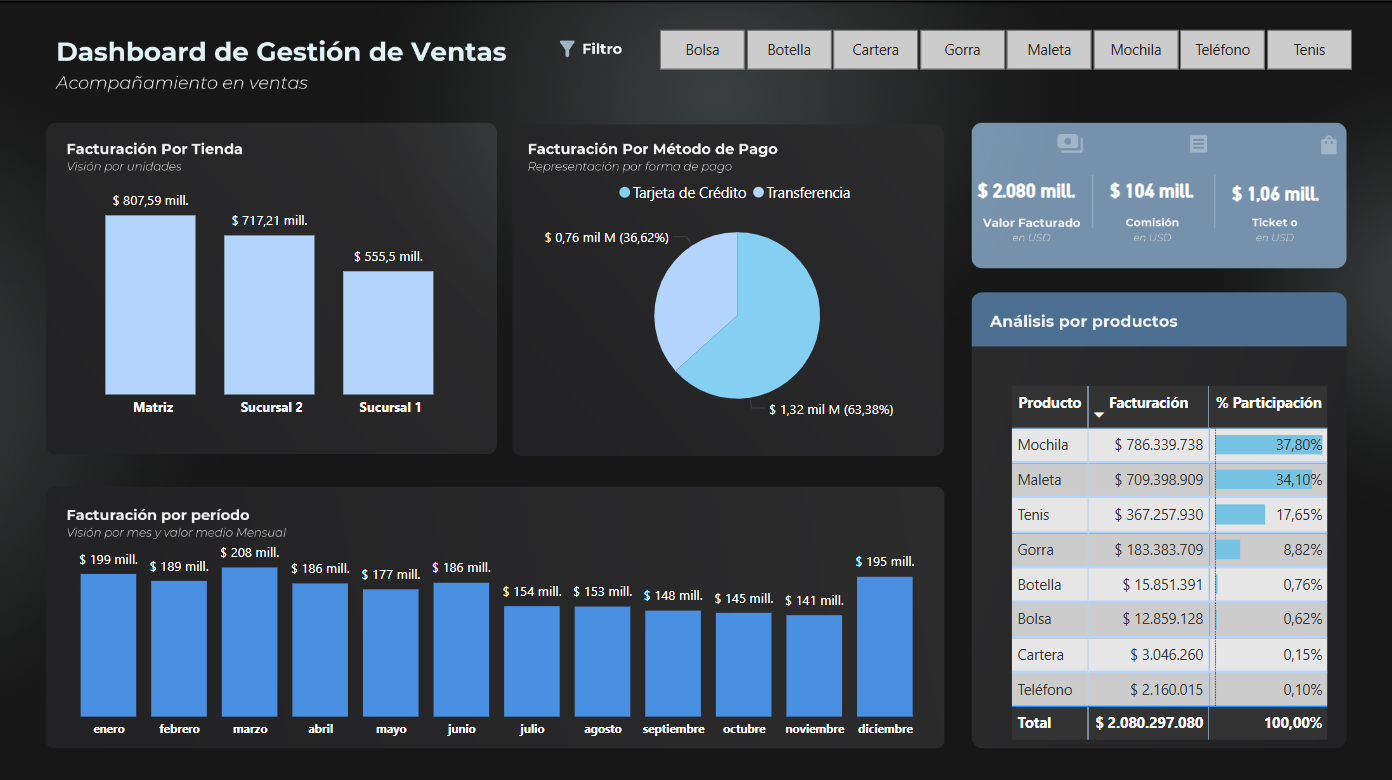

The page's visual inventory and layout, read from the dashboard file:
{"tool":"powerbi","page":{"name":"Página 1","canvas":[1280,720],"ordinal":0},"visuals":[{"type":"card","fields":{"Values":["Sum(Ventas.Facturación)"]},"box":[878.3,134.2,127.3,80.2],"z":0},{"type":"card","fields":{"Values":["Avg(Ventas.Facturación)"]},"box":[1110.7,138.3,117.6,76.1],"z":1000},{"type":"clusteredColumnChart","title":"Facturación Por Periodo","fields":{"Category":["Ventas.Fecha Pedido.Variación.Jerarquía de fechas.Mes"],"Y":["Sum(Ventas.Facturación)"]},"box":[44.3,480,824.4,204.7],"z":2000},{"type":"pieChart","title":"Facturación Por Método De Pago","fields":{"Y":["Sum(Ventas.Facturación)"],"Category":["Ventas.Medio de pago"]},"box":[474.4,154.9,403.9,236.5],"z":3000},{"type":"clusteredColumnChart","title":"Facturación Por Tienda","fields":{"Y":["Sum(Ventas.Facturación)"],"Category":["Tiendas.nombre_tienda"]},"box":[49.8,156.3,402.5,235.1],"z":4000},{"type":"tableEx","fields":{"Values":["Ventas.Producto","Sum(Ventas.Facturación)","Divide(Sum(Ventas.Facturación), ScopedEval(Sum(Ventas.Facturación), []))"]},"box":[922.6,347.2,311.2,337.5],"z":5000},{"type":"slicer","fields":{"Values":["Ventas.Producto"]},"box":[580.9,19.4,683.3,49.8],"z":7000},{"type":"card","fields":{"Values":["Ventas.Comisión"]},"box":[979.3,124.5,153.5,101],"z":8000}]}

Visuals, with their boxes in screenshot pixels (x1, y1, x2, y2), scaled from the page's 1280x720 canvas onto the 1392x780 screenshot:
card - Sum(Ventas.Facturación): x1=955 y1=145 x2=1094 y2=232
card - Avg(Ventas.Facturación): x1=1208 y1=150 x2=1336 y2=232
"Facturación Por Periodo" clusteredColumnChart: x1=48 y1=520 x2=945 y2=742
"Facturación Por Método De Pago" pieChart: x1=516 y1=168 x2=955 y2=424
"Facturación Por Tienda" clusteredColumnChart: x1=54 y1=169 x2=492 y2=424
tableEx - Ventas.Producto x Sum(Ventas.Facturación): x1=1003 y1=376 x2=1342 y2=742
slicer - Ventas.Producto: x1=632 y1=21 x2=1375 y2=75
card - Ventas.Comisión: x1=1065 y1=135 x2=1232 y2=244
